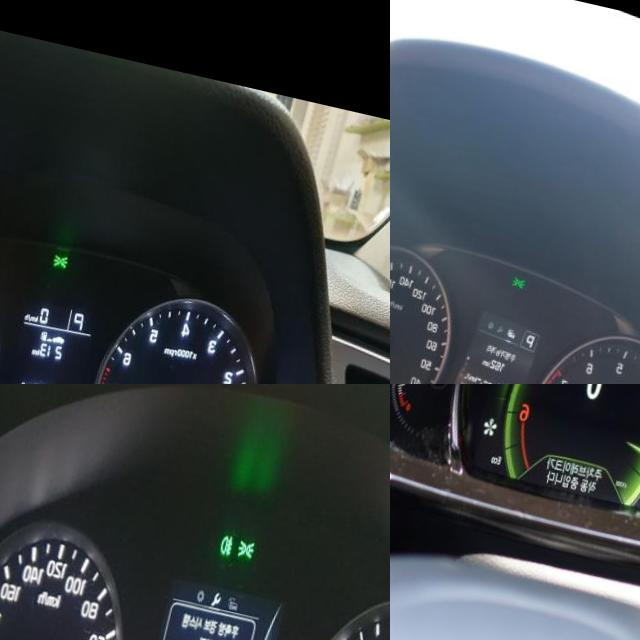FrontFogLight: (230, 515, 247, 543)
SideLamp: (248, 520, 268, 544), (62, 239, 80, 257), (525, 261, 541, 276)
